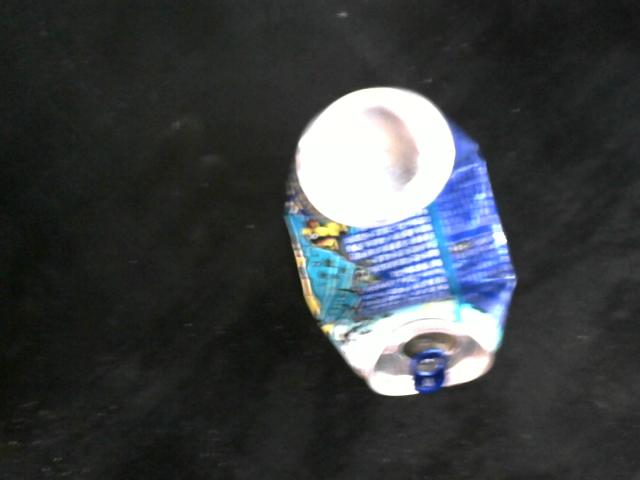can: (275, 85, 518, 402)
